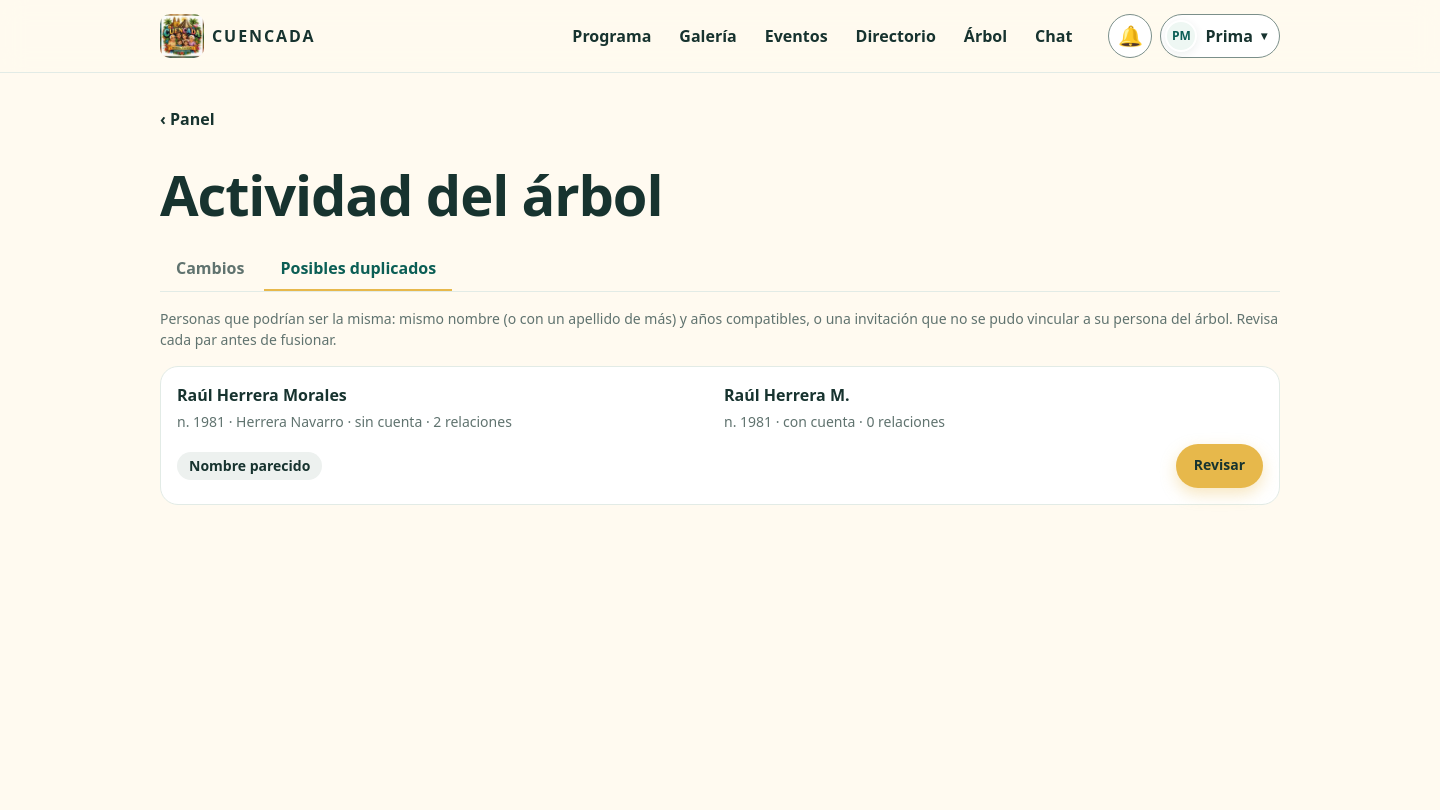
Scenario: Actividad del árbol · Posibles duplicados › shows the server's reason when the merge is refused and keeps the sheet open
Click the button with aria-label "Revisar:": (1219, 466) [1176,444,1263,488]
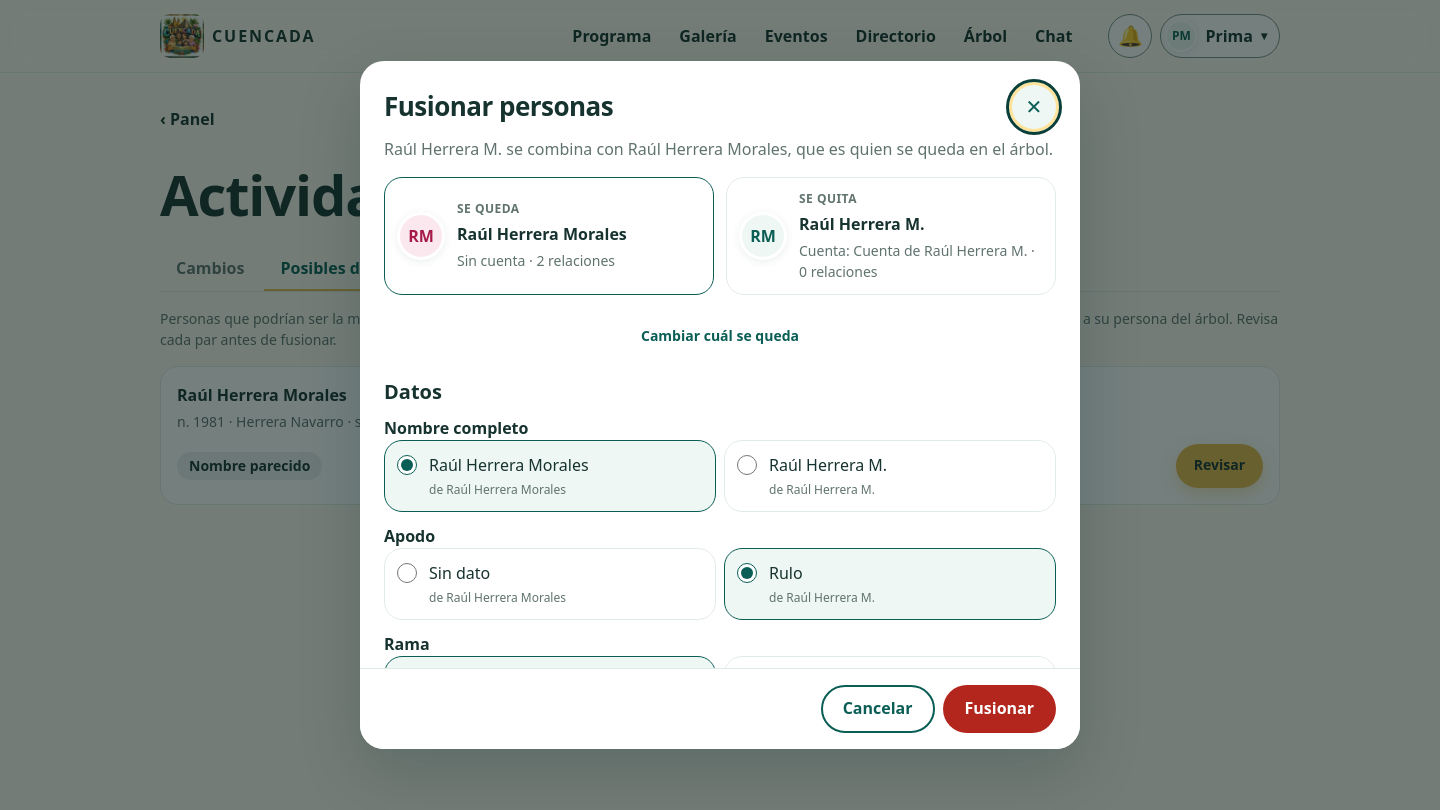
Click the button "Fusionar": (999, 709) [942,685,1056,733]
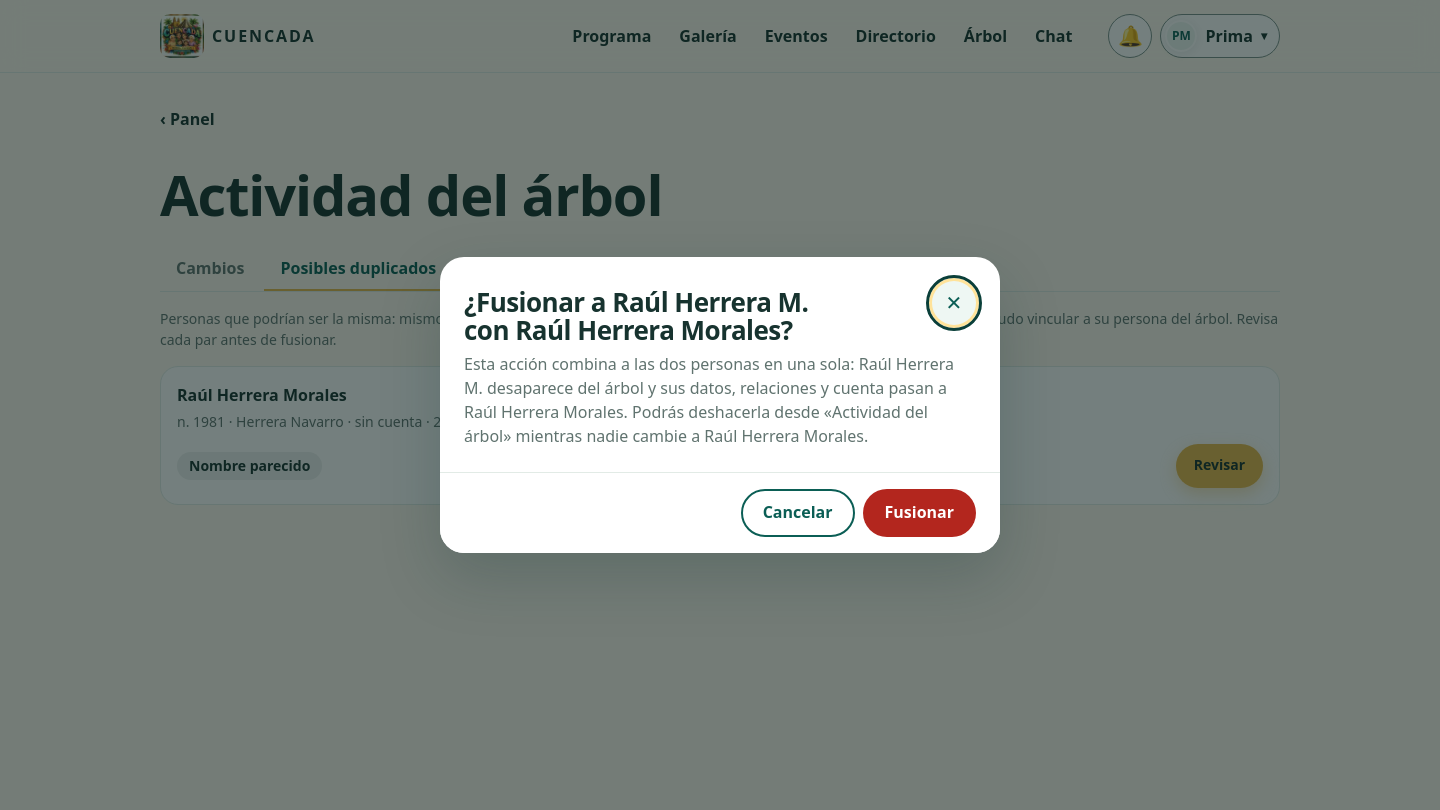
Click the button "Fusionar": (919, 513) [862,489,976,537]
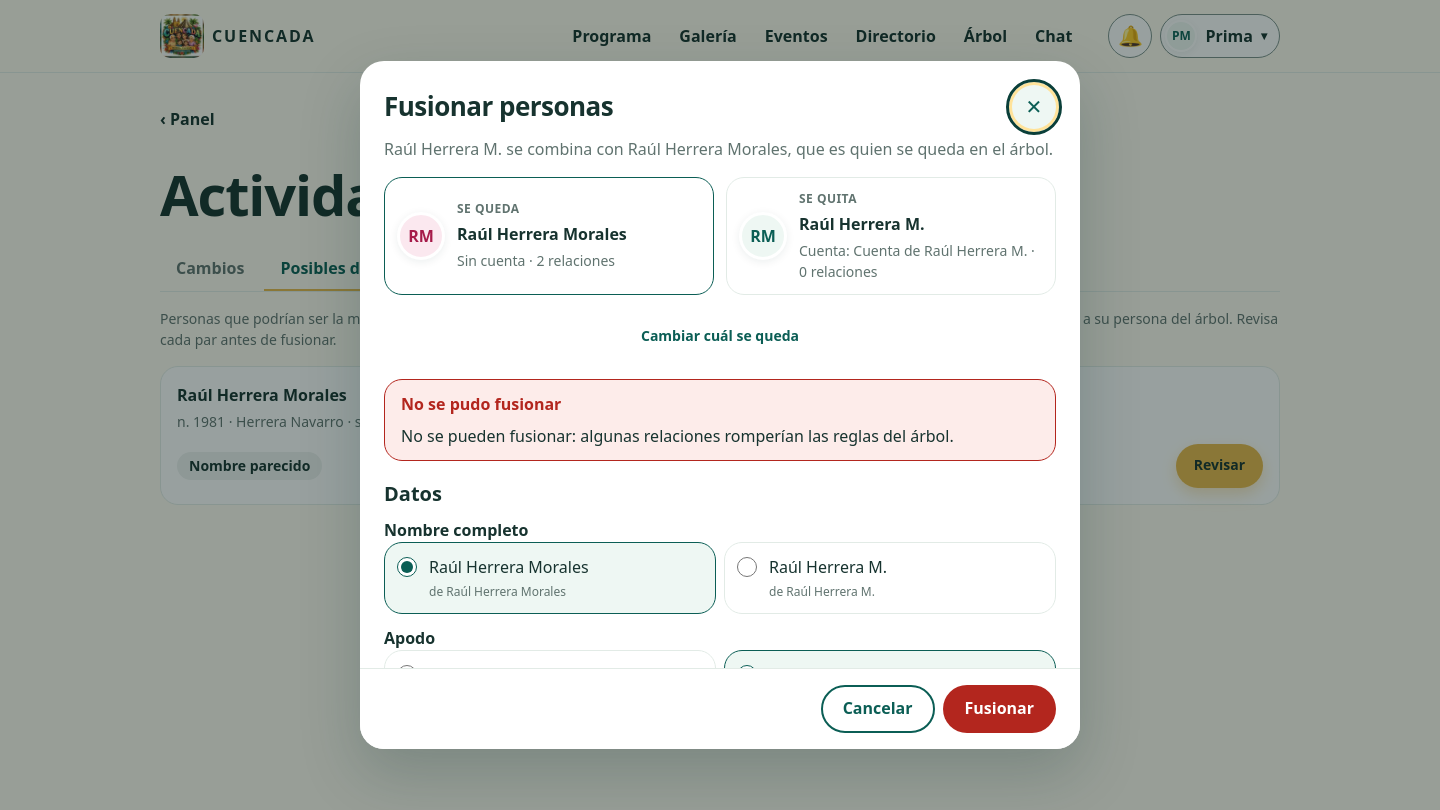
Expected: the text "algunas relaciones romperían" is shown, [401,425,954,447]
